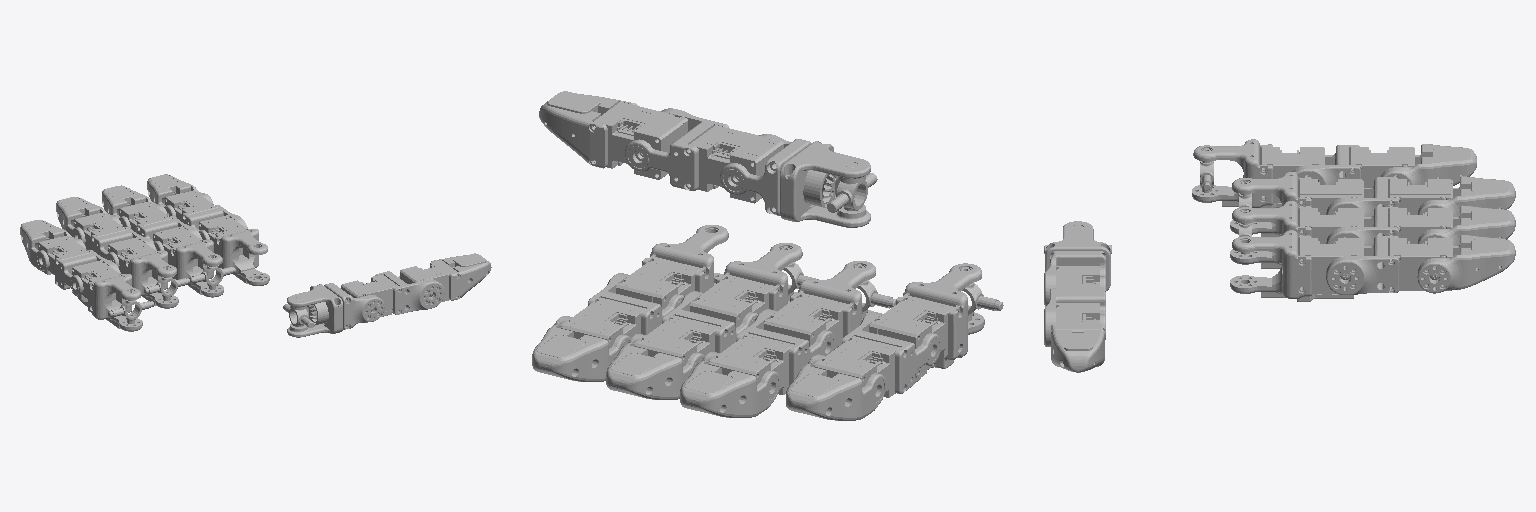
--- Render facts (derived) ---
3 views of the same robot in one strip: view 1: azimuth 30°, elevation 25°; view 2: azimuth 150°, elevation 25°; view 3: azimuth 270°, elevation 25° (orthographic).
Model ur10e_robot with 36 links and 35 joints (26 revolute, 9 fixed), rooted at base_link, posed every joint at zero.
Visible links, largest first — view 1: LMCPS, IMCPS, TPIP, MMCPS, RMCPS, TDIP, TMCPF, LPIP, RPIP, TMCPS, IPIP, MPIP (+4 smaller); view 2: TDIP, TPIP, LMCPS, TMCPF, RMCPS, LPIP, IMCPS, MMCPS, RPIP, LDIP, RDIP, MPIP (+6 smaller); view 3: IMCPS, IPIP, LMCPS, IDIP, MMCPS, TDIP, RMCPS, LPIP, RPIP, MPIP, LDIP, TPIP (+4 smaller).
Boxes of the visible links, x1=… form: LMCPS: x1=72, y1=260, x2=142, y2=331; IMCPS: x1=199, y1=215, x2=269, y2=285; TPIP: x1=341, y1=271, x2=444, y2=316; MMCPS: x1=153, y1=226, x2=223, y2=297; RMCPS: x1=108, y1=237, x2=178, y2=308; TDIP: x1=400, y1=253, x2=491, y2=301; TMCPF: x1=283, y1=284, x2=342, y2=337; LPIP: x1=38, y1=236, x2=120, y2=295; RPIP: x1=74, y1=213, x2=156, y2=267; TMCPS: x1=306, y1=283, x2=384, y2=329; IPIP: x1=165, y1=190, x2=247, y2=239; MPIP: x1=119, y1=201, x2=201, y2=250; TDIP: x1=539, y1=91, x2=687, y2=179; TPIP: x1=625, y1=108, x2=783, y2=203; LMCPS: x1=869, y1=263, x2=984, y2=382; TMCPF: x1=780, y1=141, x2=877, y2=227; RMCPS: x1=764, y1=261, x2=875, y2=349; LPIP: x1=814, y1=312, x2=940, y2=397; IMCPS: x1=616, y1=225, x2=728, y2=309; MMCPS: x1=690, y1=243, x2=802, y2=327; RPIP: x1=709, y1=309, x2=834, y2=394; LDIP: x1=786, y1=354, x2=885, y2=420; RDIP: x1=680, y1=352, x2=779, y2=417; MPIP: x1=635, y1=291, x2=757, y2=366; IMCPS: x1=1230, y1=230, x2=1363, y2=301; IPIP: x1=1326, y1=236, x2=1452, y2=294; LMCPS: x1=1192, y1=139, x2=1324, y2=207; IDIP: x1=1417, y1=235, x2=1515, y2=293; MMCPS: x1=1230, y1=201, x2=1363, y2=268; TDIP: x1=1051, y1=303, x2=1104, y2=372; RMCPS: x1=1230, y1=172, x2=1363, y2=236; LPIP: x1=1292, y1=145, x2=1414, y2=187; RPIP: x1=1326, y1=177, x2=1452, y2=216; MPIP: x1=1326, y1=207, x2=1452, y2=245; LDIP: x1=1381, y1=144, x2=1476, y2=185; TPIP: x1=1044, y1=266, x2=1105, y2=346.
Bounding box of the posed robot: 0.2619 × 0.245 × 0.0311 m (x, y, z).
Meshes: 28 distinct files referenced, 19 mesh visuals loaded (19 binary STL); not drawn: 8 (reference not matched to a file when rendering), 1 (file found but could not be loaded).

robot.urdf — ur10e_robot:
<?xml version="1.0" encoding="utf-8"?>
<robot name="ur10e_robot">
  <!--
    This file models the base kinematic chain of a UR robot, which then gets
    parameterised by various configuration files to convert it into a UR3(e),
    UR5(e), UR10(e), UR16e, UR20 or UR30.

    NOTE: the default kinematic parameters (ie: link lengths, frame locations,
    offets, etc) do not correspond to any particular robot. They are defaults
    only. There WILL be non-zero offsets between the Forward Kinematics results
    in TF (ie: robot_state_publisher) and the values reported by the Teach
    Pendant.

    For accurate (and robot-specific) transforms, the 'kinematics_parameters_file'
    parameter MUST point to a .yaml file containing the appropriate values for
    the targetted robot.

    If using the UniversalRobots/Universal_Robots_ROS_Driver, follow the steps
    described in the readme of that repository to extract the kinematic
    calibration from the controller and generate the required .yaml file.

    Main author of the migration to yaml configs: Ludovic Delval.

    Contributors to previous versions (in no particular order):

     - Felix Messmer
     - Kelsey Hawkins
     - Wim Meeussen
     - Shaun Edwards
     - Nadia Hammoudeh Garcia
     - Dave Hershberger
     - G. vd. Hoorn
     - Philip Long
     - Dave Coleman
     - Miguel Prada
     - Mathias Luedtke
     - Marcel Schnirring
     - Felix von Drigalski
     - Felix Exner
     - Jimmy Da Silva
     - Ajit Krisshna N L
     - Muhammad Asif Rana
  -->
  <!-- links: main serial chain -->
  <link name="base_link"/>
  <link name="base_link_inertia">
    <visual>
      <origin rpy="0 0 3.14159265359" xyz="0 0 0"/>
      <geometry>
        <mesh filename="../../arms/ur10e/meshes/visual/base.obj"/>
      </geometry>
    </visual>
    <collision>
      <origin rpy="0 0 3.14159265359" xyz="0 0 0"/>
      <geometry>
        <mesh filename="../../arms/ur10e/meshes/collision/base.obj"/>
      </geometry>
    </collision>
    <inertial>
      <mass value="4.0"/>
      <origin rpy="0 0 0" xyz="0 0 0"/>
      <inertia ixx="0.0061063308908" ixy="0.0" ixz="0.0" iyy="0.0061063308908" iyz="0.0" izz="0.01125"/>
    </inertial>
  </link>
  <link name="shoulder_link">
    <visual>
      <origin rpy="0 0 3.14159265359" xyz="0 0 0"/>
      <geometry>
        <mesh filename="../../arms/ur10e/meshes/visual/shoulder.obj"/>
      </geometry>
    </visual>
    <collision>
      <origin rpy="0 0 3.14159265359" xyz="0 0 0"/>
      <geometry>
        <mesh filename="../../arms/ur10e/meshes/collision/shoulder.obj"/>
      </geometry>
    </collision>
    <inertial>
      <mass value="7.778"/>
      <origin rpy="0 0 0" xyz="0 0 0"/>
      <inertia ixx="0.0314743125769" ixy="0.0" ixz="0.0" iyy="0.0314743125769" iyz="0.0" izz="0.021875625"/>
    </inertial>
  </link>
  <link name="upper_arm_link">
    <visual>
      <origin rpy="1.57079632679 0 -1.57079632679" xyz="0 0 0.1762"/>
      <geometry>
        <mesh filename="../../arms/ur10e/meshes/visual/upperarm.obj"/>
      </geometry>
    </visual>
    <collision>
      <origin rpy="1.57079632679 0 -1.57079632679" xyz="0 0 0.1762"/>
      <geometry>
        <mesh filename="../../arms/ur10e/meshes/collision/upperarm.obj"/>
      </geometry>
    </collision>
    <inertial>
      <mass value="12.93"/>
      <origin rpy="0 1.57079632679 0" xyz="-0.306 0.0 0.175"/>
      <inertia ixx="0.421753803798" ixy="0.0" ixz="0.0" iyy="0.421753803798" iyz="0.0" izz="0.036365625"/>
    </inertial>
  </link>
  <link name="forearm_link">
    <visual>
      <origin rpy="1.57079632679 0 -1.57079632679" xyz="0 0 0.0393"/>
      <geometry>
        <mesh filename="../../arms/ur10e/meshes/visual/forearm.obj"/>
      </geometry>
    </visual>
    <collision>
      <origin rpy="1.57079632679 0 -1.57079632679" xyz="0 0 0.0393"/>
      <geometry>
        <mesh filename="../../arms/ur10e/meshes/collision/forearm.obj"/>
      </geometry>
    </collision>
    <inertial>
      <mass value="3.87"/>
      <origin rpy="0 1.57079632679 0" xyz="-0.285775 0.0 0.0393"/>
      <inertia ixx="0.110793025489" ixy="0.0" ixz="0.0" iyy="0.110793025489" iyz="0.0" izz="0.010884375"/>
    </inertial>
  </link>
  <link name="wrist_1_link">
    <visual>
      <origin rpy="1.57079632679 0 0" xyz="0 0 -0.135"/>
      <geometry>
        <mesh filename="../../arms/ur10e/meshes/visual/wrist1.obj"/>
      </geometry>
    </visual>
    <collision>
      <origin rpy="1.57079632679 0 0" xyz="0 0 -0.135"/>
      <geometry>
        <mesh filename="../../arms/ur10e/meshes/collision/wrist1.obj"/>
      </geometry>
    </collision>
    <inertial>
      <mass value="1.96"/>
      <origin rpy="0 0 0" xyz="0 0 0"/>
      <inertia ixx="0.0051082479567" ixy="0.0" ixz="0.0" iyy="0.0051082479567" iyz="0.0" izz="0.0055125"/>
    </inertial>
  </link>
  <link name="wrist_2_link">
    <visual>
      <origin rpy="0 0 0" xyz="0 0 -0.12"/>
      <geometry>
        <mesh filename="../../arms/ur10e/meshes/visual/wrist2.obj"/>
      </geometry>
    </visual>
    <collision>
      <origin rpy="0 0 0" xyz="0 0 -0.12"/>
      <geometry>
        <mesh filename="../../arms/ur10e/meshes/collision/wrist2.obj"/>
      </geometry>
    </collision>
    <inertial>
      <mass value="1.96"/>
      <origin rpy="0 0 0" xyz="0 0 0"/>
      <inertia ixx="0.0051082479567" ixy="0.0" ixz="0.0" iyy="0.0051082479567" iyz="0.0" izz="0.0055125"/>
    </inertial>
  </link>
  <link name="wrist_3_link">
    <visual>
      <origin rpy="1.57079632679 0 0" xyz="0 0 -0.1168"/>
      <geometry>
        <mesh filename="../../arms/ur10e/meshes/visual/wrist3.obj"/>
      </geometry>
    </visual>
    <collision>
      <origin rpy="1.57079632679 0 0" xyz="0 0 -0.1168"/>
      <geometry>
        <mesh filename="../../arms/ur10e/meshes/collision/wrist3.obj"/>
      </geometry>
    </collision>
    <inertial>
      <mass value="0.202"/>
      <origin rpy="0 0 0" xyz="0.0 0.0 -0.025"/>
      <inertia ixx="0.000144345775595" ixy="0.0" ixz="0.0" iyy="0.000144345775595" iyz="0.0" izz="0.000204525"/>
    </inertial>
  </link>
  <!-- joints: main serial chain -->
  <joint name="base_link-base_link_inertia" type="fixed">
    <parent link="base_link"/>
    <child link="base_link_inertia"/>
    <!-- 'base_link' is REP-103 aligned (so X+ forward), while the internal
           frames of the robot/controller have X+ pointing backwards.
           Use the joint between 'base_link' and 'base_link_inertia' (a dummy
           link/frame) to introduce the necessary rotation over Z (of pi rad).
      -->
    <origin rpy="0 0 3.14159265359" xyz="0 0 0"/>
  </joint>
  <joint name="shoulder_pan_joint" type="revolute">
    <parent link="base_link_inertia"/>
    <child link="shoulder_link"/>
    <origin rpy="0 0 0" xyz="0 0 0.1807"/>
    <axis xyz="0 0 1"/>
    <limit effort="330.0" lower="-6.28318530718" upper="6.28318530718" velocity="2.09439510239"/>
    <dynamics damping="0" friction="0"/>
  </joint>
  <joint name="shoulder_lift_joint" type="revolute">
    <parent link="shoulder_link"/>
    <child link="upper_arm_link"/>
    <origin rpy="1.570796327 0 0" xyz="0 0 0"/>
    <axis xyz="0 0 1"/>
    <limit effort="330.0" lower="-6.28318530718" upper="6.28318530718" velocity="2.09439510239"/>
    <dynamics damping="0" friction="0"/>
  </joint>
  <joint name="elbow_joint" type="revolute">
    <parent link="upper_arm_link"/>
    <child link="forearm_link"/>
    <origin rpy="0 0 0" xyz="-0.6127 0 0"/>
    <axis xyz="0 0 1"/>
    <limit effort="150.0" lower="-3.14159265359" upper="3.14159265359" velocity="3.14159265359"/>
    <dynamics damping="0" friction="0"/>
  </joint>
  <joint name="wrist_1_joint" type="revolute">
    <parent link="forearm_link"/>
    <child link="wrist_1_link"/>
    <origin rpy="0 0 0" xyz="-0.57155 0 0.17415"/>
    <axis xyz="0 0 1"/>
    <limit effort="56.0" lower="-6.28318530718" upper="6.28318530718" velocity="3.14159265359"/>
    <dynamics damping="0" friction="0"/>
  </joint>
  <joint name="wrist_2_joint" type="revolute">
    <parent link="wrist_1_link"/>
    <child link="wrist_2_link"/>
    <origin rpy="1.570796327 0 0" xyz="0 -0.11985 -2.45816459076e-11"/>
    <axis xyz="0 0 1"/>
    <limit effort="56.0" lower="-6.28318530718" upper="6.28318530718" velocity="3.14159265359"/>
    <dynamics damping="0" friction="0"/>
  </joint>
  <joint name="wrist_3_joint" type="revolute">
    <parent link="wrist_2_link"/>
    <child link="wrist_3_link"/>
    <origin rpy="1.57079632659 3.14159265359 3.14159265359" xyz="0 0.11655 -2.39048045935e-11"/>
    <axis xyz="0 0 1"/>
    <limit effort="56.0" lower="-6.28318530718" upper="6.28318530718" velocity="3.14159265359"/>
    <dynamics damping="0" friction="0"/>
  </joint>
  <!-- ROS-Industrial 'base' frame: base_link to UR 'Base' Coordinates transform -->
  <link name="arm_base"/>
  <joint name="base_link-base_fixed_joint" type="fixed">
    <!-- Note the rotation over Z of pi radians: as base_link is REP-103
           aligned (ie: has X+ forward, Y+ left and Z+ up), this is needed
           to correctly align 'base' with the 'Base' coordinate system of
           the UR controller.
      -->
    <origin rpy="0 0 3.14159265359" xyz="0 0 0"/>
    <parent link="base_link"/>
    <child link="arm_base"/>
  </joint>
  <!-- ROS-Industrial 'flange' frame: attachment point for EEF models -->
  <link name="ee_link"/>
  <joint name="wrist_3-flange" type="fixed">
    <parent link="wrist_3_link"/>
    <child link="ee_link"/>
    <origin rpy="0 0 1.57079632679" xyz="0 0 0"/>
  </joint>

  <joint name="arm_hand_joint" type="fixed">
    <parent link="ee_link"/>
    <child link="BASE"/>
    <origin rpy="0.0 0 1.57079632679" xyz="0.0 0.0 0.0"/>
  </joint>


  <link
    name="BASE">
    <inertial>
      <origin
        xyz="-0.00487361644963443 0.00202576490845328 0.0533472117698908"
        rpy="0 0 0" />
      <mass
        value="0.440289695299581" />
      <inertia
        ixx="0.000347981417193963"
        ixy="5.31146472663289E-06"
        ixz="-4.08105216846695E-05"
        iyy="0.00061617049726866"
        iyz="-2.39642944264747E-05"
        izz="0.000465938077374864" />
    </inertial>
    <visual>
      <origin
        xyz="0 0 0"
        rpy="0 0 0" />
      <geometry>
        <mesh
          filename="../../hands/rapid_hand/meshes/BASE.STL" />
      </geometry>
      <material
        name="">
        <color
          rgba="0.752941176470588 0.752941176470588 0.752941176470588 1" />
      </material>
    </visual>
    <collision>
      <origin
        xyz="0 0 0"
        rpy="0 0 0" />
      <geometry>
        <mesh
          filename="../../hands/rapid_hand/meshes/BASE.STL" />
      </geometry>
    </collision>
  </link>
  <link
    name="TMCPF">
    <inertial>
      <origin
        xyz="5.43874579400638E-09 0.000173367279422285 0.0134848473102515"
        rpy="0 0 0" />
      <mass
        value="0.00867255670420181" />
      <inertia
        ixx="7.67041806414348E-07"
        ixy="-1.82709963476403E-13"
        ixz="5.14245370735381E-14"
        iyy="1.24661758171433E-06"
        iyz="8.61105358367295E-10"
        izz="8.26590920303468E-07" />
    </inertial>
    <visual>
      <origin
        xyz="0 0 0"
        rpy="0 0 0" />
      <geometry>
        <mesh
          filename="../../hands/rapid_hand/meshes/TMCPF.STL" />
      </geometry>
      <material
        name="">
        <color
          rgba="0.752941176470588 0.752941176470588 0.752941176470588 1" />
      </material>
    </visual>
    <collision>
      <origin
        xyz="0 0 0"
        rpy="0 0 0" />
      <geometry>
        <mesh
          filename="../../hands/rapid_hand/meshes/TMCPF.STL" />
      </geometry>
    </collision>
  </link>
  <joint
    name="TF"
    type="revolute">
    <origin
      xyz="0.036 -0.004 0.043"
      rpy="0 1.5708 0" />
    <parent
      link="BASE" />
    <child
      link="TMCPF" />
    <axis
      xyz="1 0 0" />
    <limit
      lower="-3.14"
      upper="3.14"
      effort="1"
      velocity="1" />
  </joint>
  <link
    name="TMCPS">
    <inertial>
      <origin
        xyz="0.00113278662589469 -1.13908234303239E-08 -0.00229033918513943"
        rpy="0 0 0" />
      <mass
        value="0.00961656020732061" />
      <inertia
        ixx="7.2565135717272E-07"
        ixy="-2.31609281014523E-13"
        ixz="-2.38773099457585E-08"
        iyy="5.55204118086207E-07"
        iyz="8.34739429589534E-14"
        izz="4.99903953739093E-07" />
    </inertial>
    <visual>
      <origin
        xyz="0 0 0"
        rpy="0 0 0" />
      <geometry>
        <mesh
          filename="../../hands/rapid_hand/meshes/TMCPS.STL" />
      </geometry>
      <material
        name="">
        <color
          rgba="0.752941176470588 0.752941176470588 0.752941176470588 1" />
      </material>
    </visual>
    <collision>
      <origin
        xyz="0 0 0"
        rpy="0 0 0" />
      <geometry>
        <mesh
          filename="../../hands/rapid_hand/meshes/TMCPS.STL" />
      </geometry>
    </collision>
  </link>
  <joint
    name="TS"
    type="revolute">
    <origin
      xyz="0 0 0.0309"
      rpy="0 0 0" />
    <parent
      link="TMCPF" />
    <child
      link="TMCPS" />
    <axis
      xyz="0 0 -1" />
    <limit
      lower="-3.14"
      upper="3.14"
      effort="1"
      velocity="1" />
  </joint>
  <link
    name="TPIP">
    <inertial>
      <origin
        xyz="0.00115636106302726 0.0001035074072121 0.0147895764840127"
        rpy="0 0 0" />
      <mass
        value="0.0218638036213291" />
      <inertia
        ixx="2.50540307346291E-06"
        ixy="1.98429515838161E-09"
        ixz="-7.73824368459479E-08"
        iyy="2.17139629099095E-06"
        iyz="9.2599657965607E-09"
        izz="1.01723034142232E-06" />
    </inertial>
    <visual>
      <origin
        xyz="0 0 0"
        rpy="0 0 0" />
      <geometry>
        <mesh
          filename="../../hands/rapid_hand/meshes/TPIP.STL" />
      </geometry>
      <material
        name="">
        <color
          rgba="0.752941176470588 0.752941176470588 0.752941176470588 1" />
      </material>
    </visual>
    <collision>
      <origin
        xyz="0 0 0"
        rpy="0 0 0" />
      <geometry>
        <mesh
          filename="../../hands/rapid_hand/meshes/TPIP.STL" />
      </geometry>
    </collision>
  </link>
  <joint
    name="TP"
    type="revolute">
    <origin
      xyz="0 0 0.0185"
      rpy="0 0 0" />
    <parent
      link="TMCPS" />
    <child
      link="TPIP" />
    <axis
      xyz="1 0 0" />
    <limit
      lower="-3.14"
      upper="3.14"
      effort="1"
      velocity="1" />
  </joint>
  <link
    name="TDIP">
    <inertial>
      <origin
        xyz="0.000385304884610346 -0.000805905719972057 0.0184635035729084"
        rpy="0 0 0" />
      <mass
        value="0.025657649089922" />
      <inertia
        ixx="2.73446903195404E-06"
        ixy="1.7863106894769E-09"
        ixz="-8.64810580004142E-09"
        iyy="2.44743923159286E-06"
        iyz="8.3296520156693E-08"
        izz="1.00880126944463E-06" />
    </inertial>
    <visual>
      <origin
        xyz="0 0 0"
        rpy="0 0 0" />
      <geometry>
        <mesh
          filename="../../hands/rapid_hand/meshes/TDIP.STL" />
      </geometry>
      <material
        name="">
        <color
          rgba="0.752941176470588 0.752941176470588 0.752941176470588 1" />
      </material>
    </visual>
    <collision>
      <origin
        xyz="0 0 0"
        rpy="0 0 0" />
      <geometry>
        <mesh
          filename="../../hands/rapid_hand/meshes/TDIP.STL" />
      </geometry>
    </collision>
  </link>
  <joint
    name="TD"
    type="revolute">
    <origin
      xyz="0 0 0.0465"
      rpy="0 0 0" />
    <parent
      link="TPIP" />
    <child
      link="TDIP" />
    <axis
      xyz="1 0 0" />
    <limit
      lower="-3.14"
      upper="3.14"
      effort="1"
      velocity="1" />
  </joint>
  <link
    name="IMCPF">
    <inertial>
      <origin
        xyz="-1.23449232967976E-07 -1.55233664823548E-07 1.03178869920173E-07"
        rpy="0 0 0" />
      <mass
        value="0.00105509319213642" />
      <inertia
        ixx="3.18851603791441E-08"
        ixy="-3.32607689523367E-15"
        ixz="-5.1173639263051E-14"
        iyy="6.81180906084367E-08"
        iyz="1.03660834170811E-13"
        izz="9.44143585547911E-08" />
    </inertial>
    <visual>
      <origin
        xyz="0 0 0"
        rpy="0 0 0" />
      <geometry>
        <mesh
          filename="../../hands/rapid_hand/meshes/IMCPF.STL" />
      </geometry>
      <material
        name="">
        <color
          rgba="0.752941176470588 0.752941176470588 0.752941176470588 1" />
      </material>
    </visual>
    <collision>
      <origin
        xyz="0 0 0"
        rpy="0 0 0" />
      <geometry>
        <mesh
          filename="../../hands/rapid_hand/meshes/IMCPF.STL" />
      </geometry>
    </collision>
  </link>
  <joint
    name="IF"
    type="revolute">
    <origin
      xyz="0.054 -0.004 0.13"
      rpy="0 0 0" />
    <parent
      link="BASE" />
    <child
      link="IMCPF" />
    <axis
      xyz="1 0 0" />
    <limit
      lower="-3.14"
      upper="3.14"
      effort="1"
      velocity="1" />
  </joint>
  <link
    name="IMCPS">
    <inertial>
      <origin
        xyz="0.00051151655399137 0.00128219675748885 0.0360582073884051"
        rpy="0 0 0" />
      <mass
        value="0.0255680145005863" />
      <inertia
        ixx="2.87973996438069E-06"
        ixy="4.2972188524556E-09"
        ixz="-5.58008522219328E-09"
        iyy="3.06430577453356E-06"
        iyz="1.74224474142161E-08"
        izz="1.39436516106889E-06" />
    </inertial>
    <visual>
      <origin
        xyz="0 0 0"
        rpy="0 0 0" />
      <geometry>
        <mesh
          filename="../../hands/rapid_hand/meshes/IMCPS.STL" />
      </geometry>
      <material
        name="">
        <color
          rgba="0.752941176470588 0.752941176470588 0.752941176470588 1" />
      </material>
    </visual>
    <collision>
      <origin
        xyz="0 0 0"
        rpy="0 0 0" />
      <geometry>
        <mesh
          filename="../../hands/rapid_hand/meshes/IMCPS.STL" />
      </geometry>
    </collision>
  </link>
  <joint
    name="IS"
    type="revolute">
    <origin
      xyz="0 0 0"
      rpy="0 0 0" />
    <parent
      link="IMCPF" />
    <child
      link="IMCPS" />
    <axis
      xyz="0 1 0" />
    <limit
      lower="-3.14"
      upper="3.14"
      effort="1"
      velocity="1" />
  </joint>
  <link
    name="IPIP">
    <inertial>
      <origin
        xyz="0.00115558034102659 0.000110062274357295 0.0317104165010226"
        rpy="0 0 0" />
      <mass
        value="0.0218638098074725" />
      <inertia
        ixx="2.50540377307788E-06"
        ixy="1.8163924082073E-09"
        ixz="7.73826438143791E-08"
        iyy="2.17139668013854E-06"
        iyz="-6.50298139378206E-09"
        izz="1.0172309313264E-06" />
    </inertial>
    <visual>
      <origin
        xyz="0 0 0"
        rpy="0 0 0" />
      <geometry>
        <mesh
          filename="../../hands/rapid_hand/meshes/IPIP.STL" />
      </geometry>
      <material
        name="">
        <color
          rgba="0.752941176470588 0.752941176470588 0.752941176470588 1" />
      </material>
    </visual>
    <collision>
      <origin
        xyz="0 0 0"
        rpy="0 0 0" />
      <geometry>
        <mesh
          filename="../../hands/rapid_hand/meshes/IPIP.STL" />
      </geometry>
    </collision>
  </link>
  <joint
    name="IP"
    type="revolute">
    <origin
      xyz="0 0 0.052"
      rpy="0 0 0" />
    <parent
      link="IMCPS" />
    <child
      link="IPIP" />
    <axis
      xyz="1 0 0" />
    <limit
      lower="-3.14"
      upper="3.14"
      effort="1"
      velocity="1" />
  </joint>
  <link
    name="IDIP">
    <inertial>
      <origin
        xyz="0.000735870667299736 -0.00251219154785661 0.021014755592917"
        rpy="0 0 0" />
      <mass
        value="0.0103515223793345" />
      <inertia
        ixx="1.17694075878933E-06"
        ixy="1.0899242697752E-10"
        ixz="7.47171593967575E-08"
        iyy="1.16405050403568E-06"
        iyz="1.10650844003481E-07"
        izz="4.02880137181451E-07" />
    </inertial>
    <visual>
      <origin
        xyz="0 0 0"
        rpy="0 0 0" />
      <geometry>
        <mesh
          filename="../../hands/rapid_hand/meshes/IDIP.STL" />
      </geometry>
      <material
        name="">
        <color
          rgba="0.752941176470588 0.752941176470588 0.752941176470588 1" />
      </material>
    </visual>
    <collision>
      <origin
        xyz="0 0 0"
        rpy="0 0 0" />
      <geometry>
        <mesh
          filename="../../hands/rapid_hand/meshes/IDIP.STL" />
      </geometry>
    </collision>
  </link>
  <joint
    name="ID"
    type="revolute">
    <origin
      xyz="0 0 0.0465"
      rpy="0 0 0" />
    <parent
      link="IPIP" />
    <child
      link="IDIP" />
    <axis
      xyz="1 0 0" />
    <limit
      lower="-3.14"
      upper="3.14"
      effort="1"
      velocity="1" />
  </joint>
  <link
    name="MMCPF">
    <inertial>
      <origin
        xyz="-1.23449232967976E-07 -1.55233664825283E-07 1.03178869920173E-07"
        rpy="0 0 0" />
      <mass
        value="0.00105509319213642" />
      <inertia
        ixx="3.1885160379144E-08"
        ixy="-3.32607682058185E-15"
        ixz="-5.117363926248E-14"
        iyy="6.81180906084367E-08"
        iyz="1.03660834092638E-13"
        izz="9.4414358554791E-08" />
    </inertial>
    <visual>
      <origin
        xyz="0 0 0"
        rpy="0 0 0" />
      <geometry>
        <mesh
          filename="../../hands/rapid_hand/meshes/MMCPF.STL" />
      </geometry>
      <material
        name="">
        <color
          rgba="0.752941176470588 0.752941176470588 0.752941176470588 1" />
      </material>
    </visual>
    <collision>
      <origin
        xyz="0 0 0"
        rpy="0 0 0" />
      <geometry>
        <mesh
          filename="../../hands/rapid_hand/meshes/MMCPF.STL" />
      </geometry>
    </collision>
  </link>
  <joint
    name="MF"
    type="revolute">
    <origin
      xyz="0.018 -0.004 0.13"
      rpy="0 0 0" />
    <parent
      link="BASE" />
    <child
      link="MMCPF" />
    <axis
      xyz="1 0 0" />
    <limit
      lower="-3.14"
      upper="3.14"
      effort="1"
      velocity="1" />
  </joint>
  <link
    name="MMCPS">
    <inertial>
      <origin
        xyz="0.000511516467769143 0.00128219694955495 0.0360582071081458"
        rpy="0 0 0" />
      <mass
        value="0.0255680149320248" />
      <inertia
        ixx="2.87973997290972E-06"
        ixy="4.29722665087371E-09"
        ixz="-5.58008711227301E-09"
        iyy="3.06430582000263E-06"
        iyz="1.74224487559017E-08"
        izz="1.39436521176989E-06" />
    </inertial>
    <visual>
      <origin
        xyz="0 0 0"
        rpy="0 0 0" />
      <geometry>
        <mesh
          filename="../../hands/rapid_hand/meshes/MMCPS.STL" />
      </geometry>
      <material
        name="">
        <color
          rgba="0.752941176470588 0.752941176470588 0.752941176470588 1" />
      </material>
    </visual>
    <collision>
      <origin
        xyz="0 0 0"
        rpy="0 0 0" />
      <geometry>
        <mesh
          filename="../../hands/rapid_hand/meshes/MMCPS.STL" />
      </geometry>
    </collision>
  </link>
  <joint
    name="MS"
    type="revolute">
    <origin
      xyz="0 0 0"
      rpy="0 0 0" />
    <parent
      link="MMCPF" />
    <child
      link="MMCPS" />
    <axis
      xyz="0 1 0" />
    <limit
      lower="-3.14"
      upper="3.14"
      effort="1"
      velocity="1" />
  </joint>
  <link
    name="MPIP">
    <inertial>
      <origin
        xyz="0.00115558034097 0.000110062274357156 0.0317104165010227"
        rpy="0 0 0" />
      <mass
        value="0.0218638098074725" />
      <inertia
        ixx="2.50540377307788E-06"
        ixy="1.81639240820665E-09"
        ixz="7.73826438143785E-08"
        iyy="2.17139668013854E-06"
        iyz="-6.50298139378068E-09"
        izz="1.0172309313264E-06" />
    </inertial>
    <visual>
      <origin
        xyz="0 0 0"
        rpy="0 0 0" />
      <geometry>
        <mesh
          filename="../../hands/rapid_hand/meshes/MPIP.STL" />
      </geometry>
      <material
        name="">
        <color
          rgba="0.752941176470588 0.752941176470588 0.752941176470588 1" />
      </material>
    </visual>
    <collision>
      <origin
        xyz="0 0 0"
        rpy="0 0 0" />
      <geometry>
        <mesh
          filename="../../hands/rapid_hand/meshes/MPIP.STL" />
      </geometry>
    </collision>
  </link>
  <joint
    name="MP"
    type="revolute">
    <origin
      xyz="0 0 0.052"
      rpy="0 0 0" />
    <parent
      link="MMCPS" />
    <child
      link="MPIP" />
    <axis
      xyz="1 0 0" />
    <limit
      lower="-3.14"
      upper="3.14"
      effort="1"
      velocity="1" />
  </joint>
  <link
    name="MDIP">
    <inertial>
      <origin
        xyz="0.00073587003347144 -0.0025121912941592 0.0210147562316098"
        rpy="0 0 0" />
      <mass
        value="0.0103515217937735" />
      <inertia
        ixx="1.17694068464772E-06"
        ixy="1.08980965760536E-10"
        ixz="7.47171398387616E-08"
        iyy="1.16405044111022E-06"
        iyz="1.10650875264908E-07"
        izz="4.02880111598232E-07" />
    </inertial>
    <visual>
      <origin
        xyz="0 0 0"
        rpy="0 0 0" />
      <geometry>
        <mesh
          filename="../../hands/rapid_hand/meshes/MDIP.STL" />
      </geometry>
      <material
        name="">
        <color
          rgba="0.752941176470588 0.752941176470588 0.752941176470588 1" />
      </material>
    </visual>
    <collision>
      <origin
        xyz="0 0 0"
        rpy="0 0 0" />
      <geometry>
        <mesh
          filename="../../hands/rapid_hand/meshes/MDIP.STL" />
      </geometry>
    </collision>
  </link>
  <joint
    name="MD"
    type="revolute">
    <origin
      xyz="0 0 0.0465"
      rpy="0 0 0" />
    <parent
      link="MPIP" />
    <child
      link="MDIP" />
    <axis
      xyz="1 0 0" />
    <limit
      lower="-3.14"
      upper="3.14"
      effort="1"
      velocity="1" />
  </joint>
  <link
    name="RMCPF">
    <inertial>
      <origin
        xyz="-1.23449232974915E-07 -1.55233664811405E-07 1.03178869892417E-07"
        rpy="0 0 0" />
      <mass
        value="0.00105509319213642" />
      <inertia
        ixx="3.18851603791441E-08"
        ixy="-3.32607682729697E-15"
        ixz="-5.11736393384821E-14"
        iyy="6.81180906084367E-08"
        iyz="1.03660834101083E-13"
        izz="9.44143585547911E-08" />
    </inertial>
    <visual>
      <origin
        xyz="0 0 0"
        rpy="0 0 0" />
      <geometry>
        <mesh
          filename="../../hands/rapid_hand/meshes/RMCPF.STL" />
      </geometry>
      <material
        name="">
        <color
          rgba="0.752941176470588 0.752941176470588 0.752941176470588 1" />
      </material>
    </visual>
    <collision>
      <origin
        xyz="0 0 0"
        rpy="0 0 0" />
      <geometry>
        <mesh
          filename="../../hands/rapid_hand/meshes/RMCPF.STL" />
      </geometry>
    </collision>
  </link>
  <joint
    name="RF"
    type="revolute">
    <origin
      xyz="-0.018 -0.004 0.13"
      rpy="0 0 0" />
    <parent
      link="BASE" />
    <child
      link="RMCPF" />
    <axis
      xyz="1 0 0" />
    <limit
      lower="-3.14"
      upper="3.14"
      effort="1"
      velocity="1" />
  </joint>
  <link
    name="RMCPS">
    <inertial>
      <origin
        xyz="0.000511516543022492 0.00128219675749102 0.0360582073884084"
        rpy="0 0 0" />
      <mass
        value="0.0255680145005759" />
      <inertia
        ixx="2.87973996437977E-06"
        ixy="4.29721904134885E-09"
        ixz="-5.58008481288554E-09"
        iyy="3.06434728045293E-06"
        iyz="1.74224474141735E-08"
        izz="1.39440666698883E-06" />
    </inertial>
    <visual>
      <origin
        xyz="0 0 0"
        rpy="0 0 0" />
      <geometry>
        <mesh
          filename="../../hands/rapid_hand/meshes/RMCPS.STL" />
      </geometry>
      <material
        name="">
        <color
          rgba="0.752941176470588 0.752941176470588 0.752941176470588 1" />
      </material>
    </visual>
    <collision>
      <origin
        xyz="0 0 0"
        rpy="0 0 0" />
      <geometry>
        <mesh
          filename="../../hands/rapid_hand/meshes/RMCPS.STL" />
      </geometry>
    </collision>
  </link>
  <joint
    name="RS"
    type="revolute">
    <origin
      xyz="0 0 0"
      rpy="0 0 0" />
    <parent
      link="RMCPF" />
    <child
      link="RMCPS" />
    <axis
      xyz="0 1 0" />
    <limit
      lower="-3.14"
      upper="3.14"
      effort="1"
      velocity="1" />
  </joint>
  <link
    name="RPIP">
    <inertial>
      <origin
        xyz="0.00115558034102733 0.000110062274356899 0.0317104165010224"
        rpy="0 0 0" />
      <mass
        value="0.0218638098074725" />
      <inertia
        ixx="2.50540377307788E-06"
        ixy="1.81639240820689E-09"
        ixz="7.73826438143805E-08"
        iyy="2.17139668013854E-06"
        iyz="-6.50298139378078E-09"
        izz="1.0172309313264E-06" />
    </inertial>
    <visual>
      <origin
        xyz="0 0 0"
        rpy="0 0 0" />
      <geometry>
        <mesh
          filename="../../hands/rapid_hand/meshes/RPIP.STL" />
      </geometry>
      <material
        name="">
        <color
          rgba="0.752941176470588 0.752941176470588 0.752941176470588 1" />
      </material>
    </visual>
    <collision>
      <origin
        xyz="0 0 0"
        rpy="0 0 0" />
      <geometry>
        <mesh
          filename="../../hands/rapid_hand/meshes/RPIP.STL" />
      </geometry>
    </collision>
  </link>
  <joint
    name="RP"
    type="revolute">
    <origin
      xyz="0 0 0.052"
      rpy="0 0 0" />
    <parent
      link="RMCPS" />
    <child
      link="RPIP" />
    <axis
      xyz="1 0 0" />
    <limit
      lower="-3.14"
      upper="3.14"
      effort="1"
      velocity="1" />
  </joint>
  <link
    name="RDIP">
    <inertial>
      <origin
        xyz="0.000735869975292142 -0.00251219127106798 0.0210147562227153"
        rpy="0 0 0" />
      <mass
        value="0.0103515217591085" />
      <inertia
        ixx="1.17694068870696E-06"
        ixy="1.08978738923934E-10"
        ixz="7.47171385069524E-08"
        iyy="1.16405044521866E-06"
        iyz="1.10650875070147E-07"
        izz="4.02880107508782E-07" />
    </inertial>
    <visual>
      <origin
        xyz="0 0 0"
        rpy="0 0 0" />
      <geometry>
        <mesh
          filename="../../hands/rapid_hand/meshes/RDIP.STL" />
      </geometry>
      <material
        name="">
        <color
          rgba="0.752941176470588 0.752941176470588 0.752941176470588 1" />
      </material>
    </visual>
    <collision>
      <origin
        xyz="0 0 0"
        rpy="0 0 0" />
      <geometry>
        <mesh
          filename="../../hands/rapid_hand/meshes/RDIP.STL" />
      </geometry>
    </collision>
  </link>
  <joint
    name="RD"
    type="revolute">
    <origin
      xyz="0 0 0.0465"
      rpy="0 0 0" />
    <parent
      link="RPIP" />
    <child
      link="RDIP" />
    <axis
      xyz="1 0 0" />
    <limit
      lower="-3.14"
      upper="3.14"
      effort="1"
      velocity="1" />
  </joint>
  <link
    name="LMCPF">
    <inertial>
      <origin
        xyz="-1.23449232974915E-07 -1.55233664811405E-07 1.03178869906295E-07"
        rpy="0 0 0" />
      <mass
        value="0.00105509319213642" />
      <inertia
        ixx="3.1885160379144E-08"
        ixy="-3.32607682703266E-15"
        ixz="-5.11736393554975E-14"
        iyy="6.81180906084366E-08"
        iyz="1.03660834073681E-13"
        izz="9.44143585547909E-08" />
    </inertial>
    <visual>
      <origin
        xyz="0 0 0"
        rpy="0 0 0" />
      <geometry>
        <mesh
          filename="../../hands/rapid_hand/meshes/LMCPF.STL" />
      </geometry>
      <material
        name="">
        <color
          rgba="0.752941176470588 0.752941176470588 0.752941176470588 1" />
      </material>
    </visual>
    <collision>
      <origin
        xyz="0 0 0"
        rpy="0 0 0" />
      <geometry>
        <mesh
          filename="../../hands/rapid_hand/meshes/LMCPF.STL" />
      </geometry>
    </collision>
  </link>
  <joint
    name="LF"
    type="revolute">
    <origin
      xyz="-0.058 -0.004 0.11"
      rpy="0 0 0" />
    <parent
      link="BASE" />
    <child
      link="LMCPF" />
    <axis
      xyz="1 0 0" />
    <limit
      lower="-3.14"
      upper="3.14"
      effort="1"
      velocity="1" />
  </joint>
  <link
    name="LMCPS">
    <inertial>
      <origin
        xyz="0.000511516546674126 0.00128219675748947 0.0360582073884079"
        rpy="0 0 0" />
      <mass
        value="0.0255680145005756" />
      <inertia
        ixx="2.87973996437963E-06"
        ixy="4.29721881328803E-09"
        ixz="-5.58008513599923E-09"
        iyy="3.06430374528504E-06"
        iyz="1.74224474141677E-08"
        izz="1.39436313182104E-06" />
    </inertial>
    <visual>
      <origin
        xyz="0 0 0"
        rpy="0 0 0" />
      <geometry>
        <mesh
          filename="../../hands/rapid_hand/meshes/LMCPS.STL" />
      </geometry>
      <material
        name="">
        <color
          rgba="0.752941176470588 0.752941176470588 0.752941176470588 1" />
      </material>
    </visual>
    <collision>
      <origin
        xyz="0 0 0"
        rpy="0 0 0" />
      <geometry>
        <mesh
          filename="../../hands/rapid_hand/meshes/LMCPS.STL" />
      </geometry>
    </collision>
  </link>
  <joint
    name="LS"
    type="revolute">
    <origin
      xyz="0 0 0"
      rpy="0 0 0" />
    <parent
      link="LMCPF" />
    <child
      link="LMCPS" />
    <axis
      xyz="0 1 0" />
    <limit
      lower="-3.14"
      upper="3.14"
      effort="1"
      velocity="1" />
  </joint>
  <link
    name="LPIP">
    <inertial>
      <origin
        xyz="0.00115558034102762 0.00011006227435764 0.031710416501022"
        rpy="0 0 0" />
      <mass
        value="0.0218638098074725" />
      <inertia
        ixx="2.50540377307788E-06"
        ixy="1.81639240820656E-09"
        ixz="7.73826438143809E-08"
        iyy="2.17139668013854E-06"
        iyz="-6.5029813937801E-09"
        izz="1.0172309313264E-06" />
    </inertial>
    <visual>
      <origin
        xyz="0 0 0"
        rpy="0 0 0" />
      <geometry>
        <mesh
          filename="../../hands/rapid_hand/meshes/LPIP.STL" />
      </geometry>
      <material
        name="">
        <color
          rgba="0.752941176470588 0.752941176470588 0.752941176470588 1" />
      </material>
    </visual>
    <collision>
      <origin
        xyz="0 0 0"
        rpy="0 0 0" />
      <geometry>
        <mesh
          filename="../../hands/rapid_hand/meshes/LPIP.STL" />
      </geometry>
    </collision>
  </link>
  <joint
    name="LP"
    type="revolute">
    <origin
      xyz="0 0 0.052"
      rpy="0 0 0" />
    <parent
      link="LMCPS" />
    <child
      link="LPIP" />
    <axis
      xyz="1 0 0" />
    <limit
      lower="-3.14"
      upper="3.14"
      effort="1"
      velocity="1" />
  </joint>
  <link
    name="LDIP">
    <inertial>
      <origin
        xyz="0.000735870207156916 -0.00251219124851578 0.0210147557253665"
        rpy="0 0 0" />
      <mass
        value="0.0103515214610938" />
      <inertia
        ixx="1.17694060249007E-06"
        ixy="1.08978271148726E-10"
        ixz="7.47171579290268E-08"
        iyy="1.16405035779421E-06"
        iyz="1.10650860312831E-07"
        izz="4.02880106236455E-07" />
    </inertial>
    <visual>
      <origin
        xyz="0 0 0"
        rpy="0 0 0" />
      <geometry>
        <mesh
          filename="../../hands/rapid_hand/meshes/LDIP.STL" />
      </geometry>
      <material
        name="">
        <color
          rgba="0.752941176470588 0.752941176470588 0.752941176470588 1" />
      </material>
    </visual>
    <collision>
      <origin
        xyz="0 0 0"
        rpy="0 0 0" />
      <geometry>
        <mesh
          filename="../../hands/rapid_hand/meshes/LDIP.STL" />
      </geometry>
    </collision>
  </link>
  <joint
    name="LD"
    type="revolute">
    <origin
      xyz="0 0 0.0465"
      rpy="0 0 0" />
    <parent
      link="LPIP" />
    <child
      link="LDIP" />
    <axis
      xyz="1 0 0" />
    <limit
      lower="-3.14"
      upper="3.14"
      effort="1"
      velocity="1" />
  </joint>

  <!-- 定位点 -->
  <link name="thtip">
    <inertial>
      <mass value="0.001"/>
      <inertia ixx="0.0" ixy="0.0" ixz="0.0" iyy="0.0" iyz="0.0" izz="0.0"/>
    </inertial>
  </link>
  <joint name="THtip" type="fixed">
    <parent link="TDIP"/>
    <child link="thtip"/>
    <origin rpy="0 0 0" xyz="0 0 0.04"/>
  </joint>

  <link name="intip">
    <inertial>
      <mass value="0.001"/>
      <inertia ixx="0.0" ixy="0.0" ixz="0.0" iyy="0.0" iyz="0.0" izz="0.0"/>
    </inertial>
  </link>
  <joint name="INtip" type="fixed">
    <parent link="IDIP"/>
    <child link="intip"/>
    <origin rpy="0 0 0" xyz="0 0 0.03"/>
  </joint>

  <link name="mitip">
    <inertial>
      <mass value="0.001"/>
      <inertia ixx="0.0" ixy="0.0" ixz="0.0" iyy="0.0" iyz="0.0" izz="0.0"/>
    </inertial>
  </link>
  <joint name="MItip" type="fixed">
    <parent link="MDIP"/>
    <child link="mitip"/>
    <origin rpy="0 0 0" xyz="0 0 0.03"/>
  </joint>
  
  <link name="ritip">
    <inertial>
      <mass value="0.001"/>
      <inertia ixx="0.0" ixy="0.0" ixz="0.0" iyy="0.0" iyz="0.0" izz="0.0"/>
    </inertial>
  </link>
  <joint name="RItip" type="fixed">
    <parent link="RDIP"/>
    <child link="ritip"/>
    <origin rpy="0 0 0" xyz="0 0 0.03"/>
  </joint>

  <link name="pitip">
    <inertial>
      <mass value="0.001"/>
      <inertia ixx="0.0" ixy="0.0" ixz="0.0" iyy="0.0" iyz="0.0" izz="0.0"/>
    </inertial>
  </link>
  <joint name="PItip" type="fixed">
    <parent link="LDIP"/>
    <child link="pitip"/>
    <origin rpy="0 0 0" xyz="0 0 0.03"/>
  </joint>

</robot>
